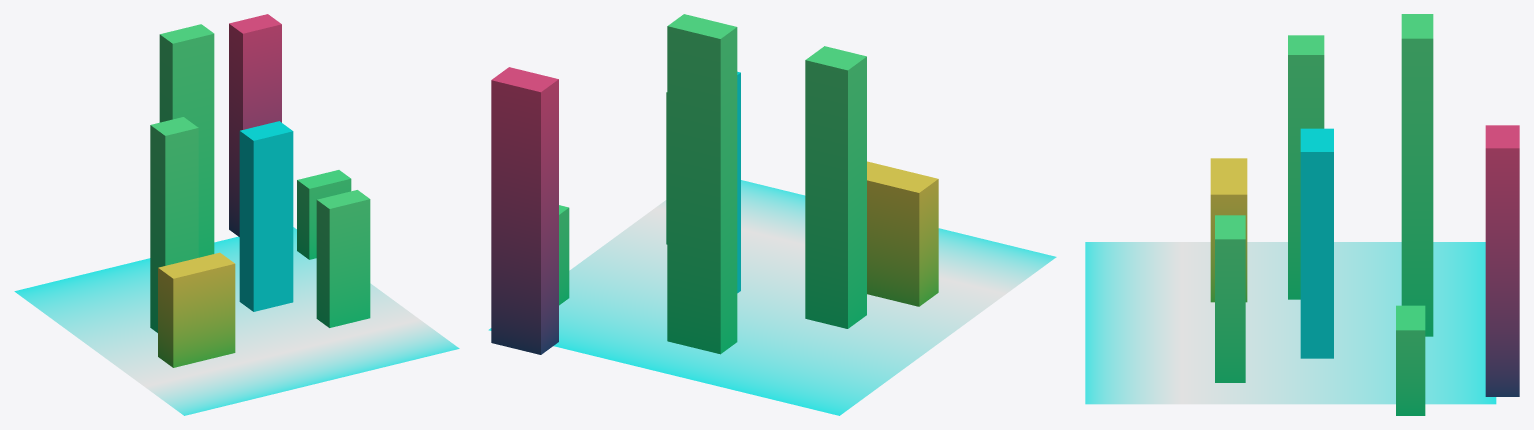
The model's file is CityBG.fbx.
3 views of the same model, side by side, from view 1: azimuth 30°, elevation 25°; view 2: azimuth 150°, elevation 25°; view 3: azimuth 270°, elevation 25° (orthographic). The views are drawn at different scales.
Parts seen in each view (by area): view 1: CityBG; view 2: CityBG; view 3: CityBG.
Boxes of the visible parts, <box> form: CityBG: <box>14,14,459,415</box>; CityBG: <box>488,14,1056,415</box>; CityBG: <box>1085,14,1519,415</box>.
Size of the model in its own units: 107 by 85.69 by 113.
